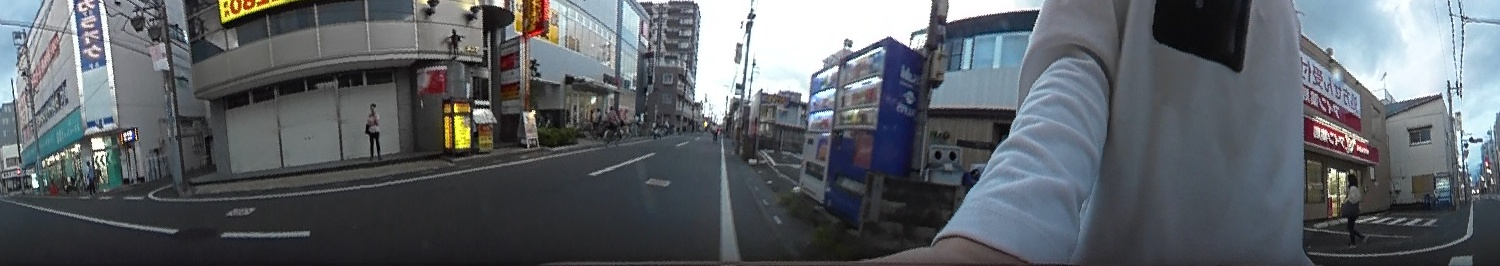difficult_person: (607, 103, 620, 138), (82, 158, 94, 193), (709, 122, 719, 146), (592, 105, 601, 121)
person: (1338, 174, 1371, 246), (362, 103, 387, 160)
